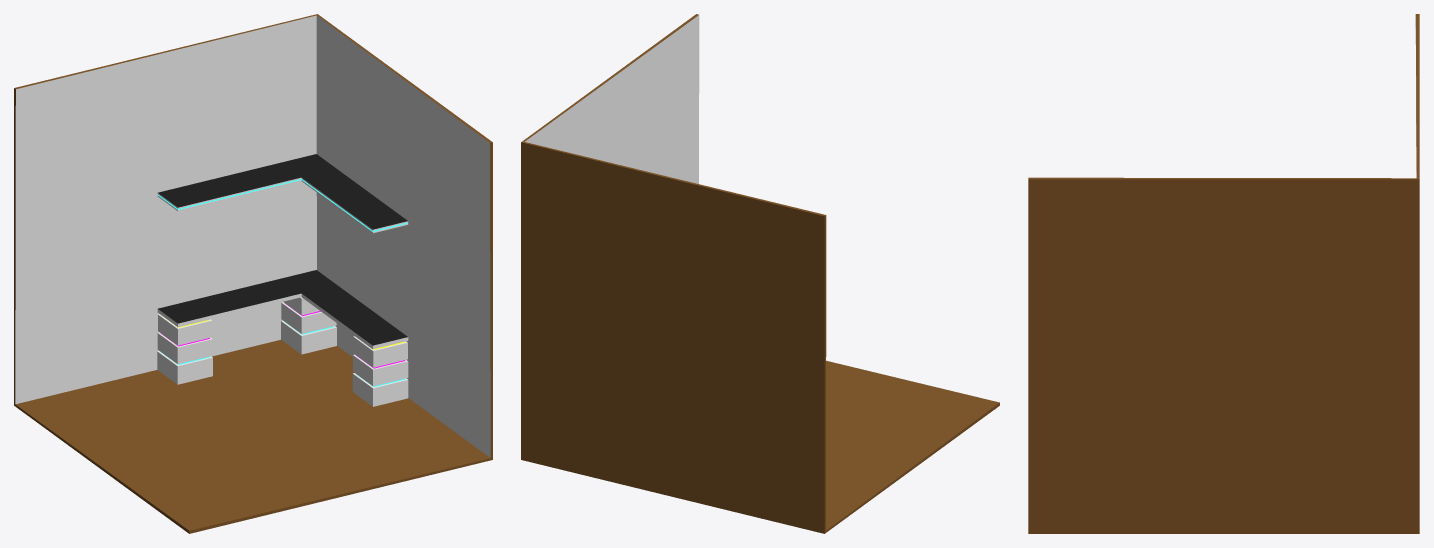
The model's file is scene_setup_table_gaming_desktop_room.glb.
3 views of the same model, side by side, from view 1: azimuth 30°, elevation 25°; view 2: azimuth 150°, elevation 25°; view 3: azimuth 270°, elevation 25° (orthographic). The views are drawn at different scales.
Visible parts, largest first — view 1: Cube.004, Cube.001, Cube.005, Cube.002, Cube.003, Cube; view 2: Cube.004; view 3: Cube.004.
Boxes of the visible parts, left/top/right/bottom form: Cube.004: left=14, top=14, right=492, bottom=533; Cube.001: left=157, top=270, right=408, bottom=349; Cube.005: left=157, top=154, right=408, bottom=233; Cube.002: left=352, top=336, right=408, bottom=406; Cube.003: left=157, top=314, right=212, bottom=384; Cube: left=281, top=297, right=336, bottom=354; Cube.004: left=521, top=14, right=999, bottom=533; Cube.004: left=1028, top=14, right=1419, bottom=533.
Bounding box in the file's own units: 17.15 × 17.15 × 17.15.
